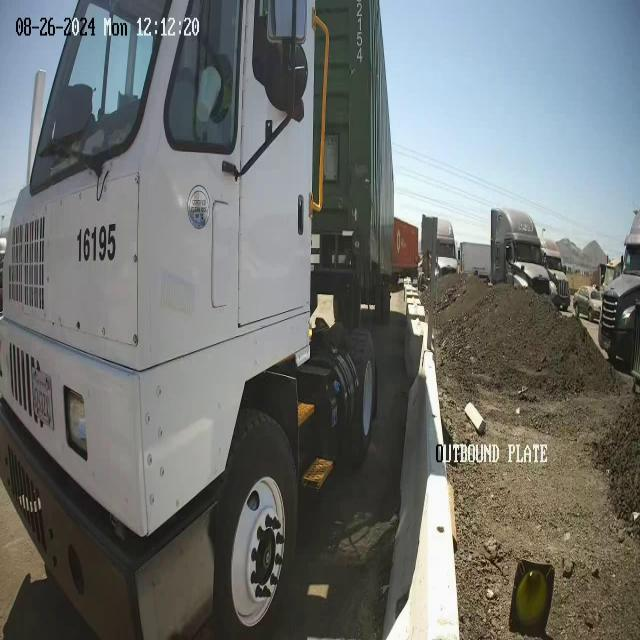TRUCK_CONTAINER: (1, 1, 395, 635)
